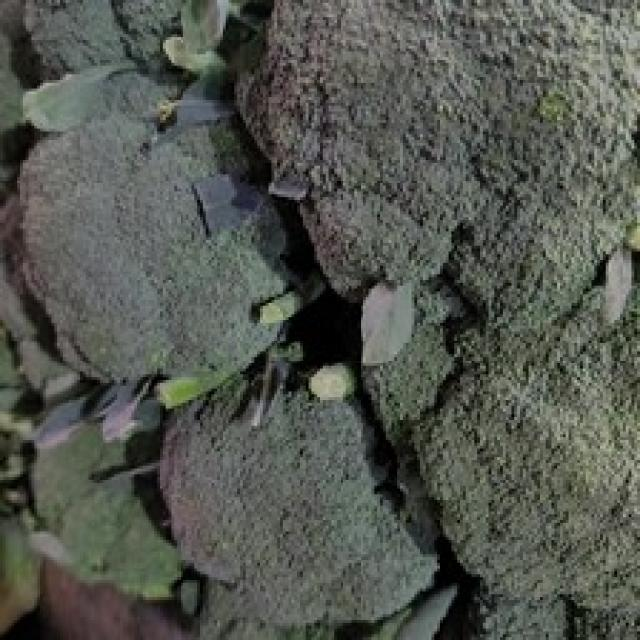Broccoli: (238, 0, 640, 323), (19, 74, 296, 379), (19, 74, 292, 379), (410, 288, 640, 639), (160, 362, 438, 626), (420, 308, 640, 640), (160, 370, 438, 626), (31, 418, 180, 599), (31, 418, 180, 598)
